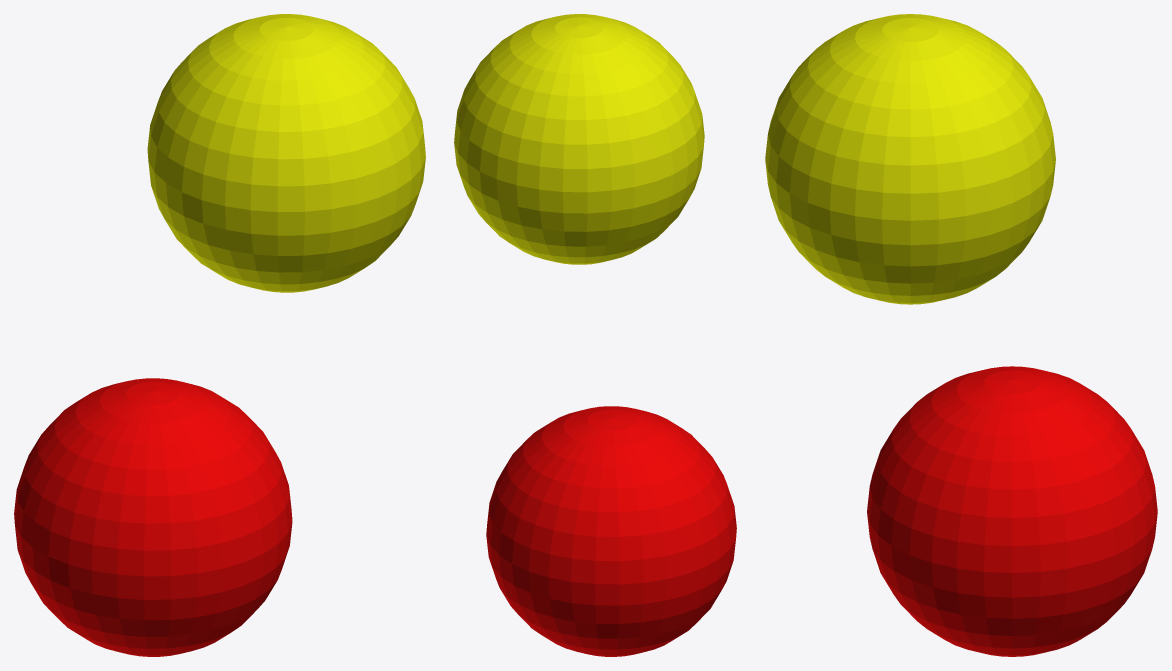
The model's file is basic_physics.gltf.
3 views of the same model, side by side, from view 1: azimuth 30°, elevation 25°; view 2: azimuth 150°, elevation 25°; view 3: azimuth 270°, elevation 25° (orthographic). The views are drawn at different scales.
Parts seen in each view (by area): view 1: Sphere, Sphere.001; view 2: Sphere, Sphere.001; view 3: Sphere, Sphere.001.
Part boxes in pixels (left/top/right/bottom): Sphere: left=14, top=378, right=292, bottom=656; Sphere.001: left=147, top=14, right=425, bottom=292; Sphere: left=486, top=406, right=736, bottom=656; Sphere.001: left=454, top=14, right=704, bottom=264; Sphere: left=867, top=366, right=1157, bottom=656; Sphere.001: left=765, top=14, right=1055, bottom=304.
Size of what is drawn, in the model's own units: 2.7 by 5 by 2.7.
